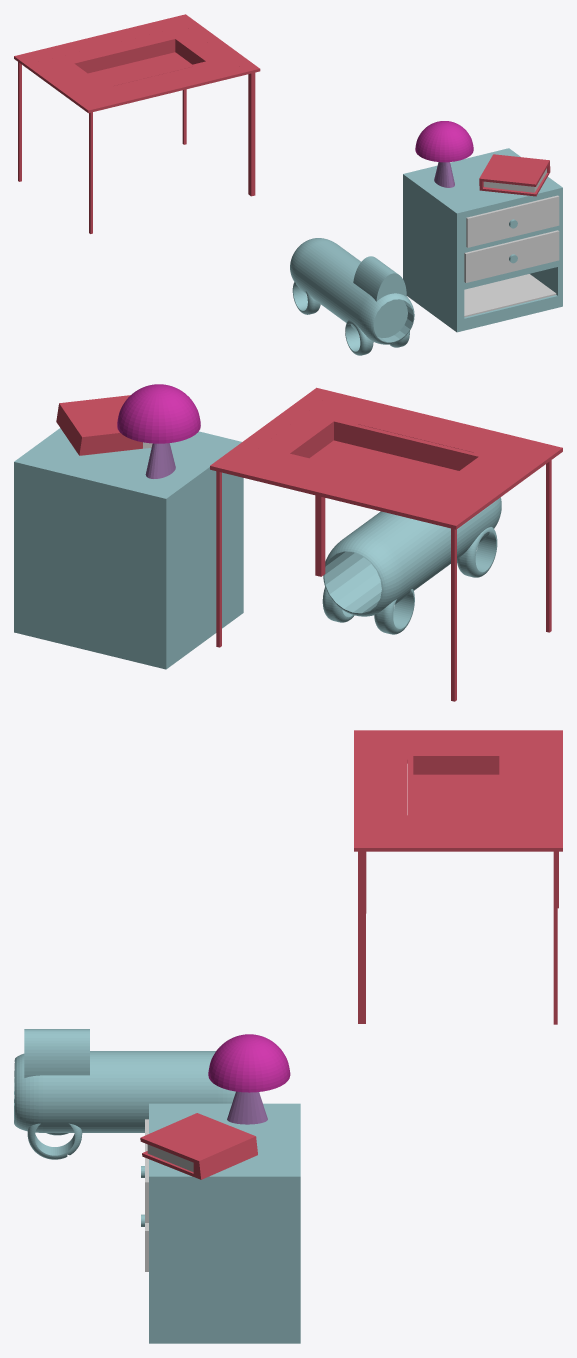
File: table (1).glb
The picture shows the model from 3 angles, top to bottom: view 1: azimuth 30°, elevation 25°; view 2: azimuth 150°, elevation 25°; view 3: azimuth 270°, elevation 25°; orthographic projection. The views are drawn at different scales.
Visible parts, largest first — view 1: Mesh_Mesh_head_geo.001_lambert2SG.001; view 2: Mesh_Mesh_head_geo.001_lambert2SG.001; view 3: Mesh_Mesh_head_geo.001_lambert2SG.001.
Boxes of the visible parts, left/top/right/bottom form: Mesh_Mesh_head_geo.001_lambert2SG.001: left=14, top=14, right=562, bottom=355; Mesh_Mesh_head_geo.001_lambert2SG.001: left=14, top=384, right=562, bottom=701; Mesh_Mesh_head_geo.001_lambert2SG.001: left=14, top=730, right=562, bottom=1343.
Bounding box in the file's own units: 161 × 91 × 134.
